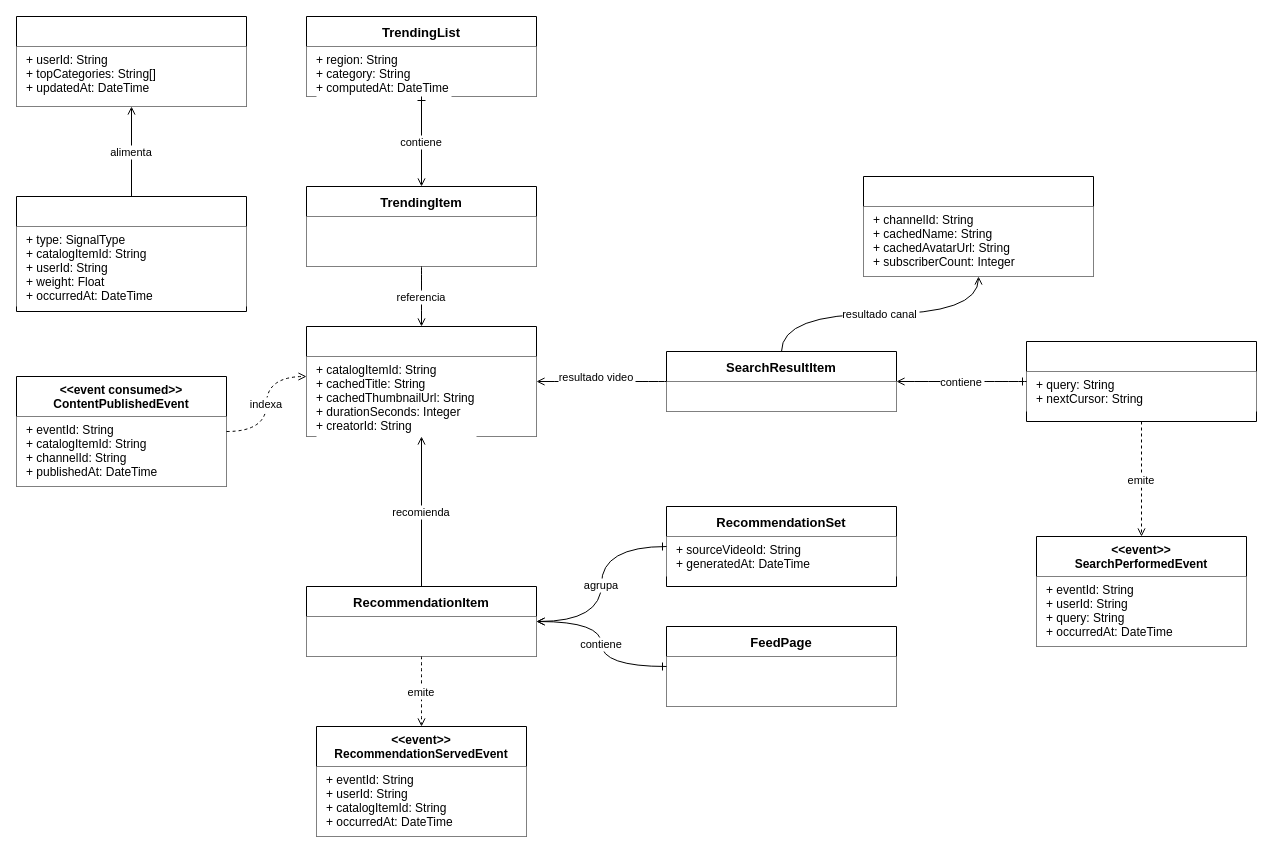
Some shapes in this 1273 by 853 pixel diagram are drawn without their labels. Here are the shapes that lost their labels. From the top down, the box of each, then its label:
(16, 16, 246, 106): UserInterestProfile
(306, 216, 536, 266): + rank: Integer + growthScore: Float
(862, 176, 1094, 276): ChannelSummary
(16, 196, 246, 312): IngestSignalRequest
(306, 326, 536, 436): ContentSummary
(666, 381, 896, 411): + relevanceScore: Float
(1026, 340, 1256, 422): SearchResultPage
(306, 616, 536, 656): + score: Float + reason: RecommendationReason
(666, 656, 896, 706): + nextCursor: String + generatedAt: DateTime
